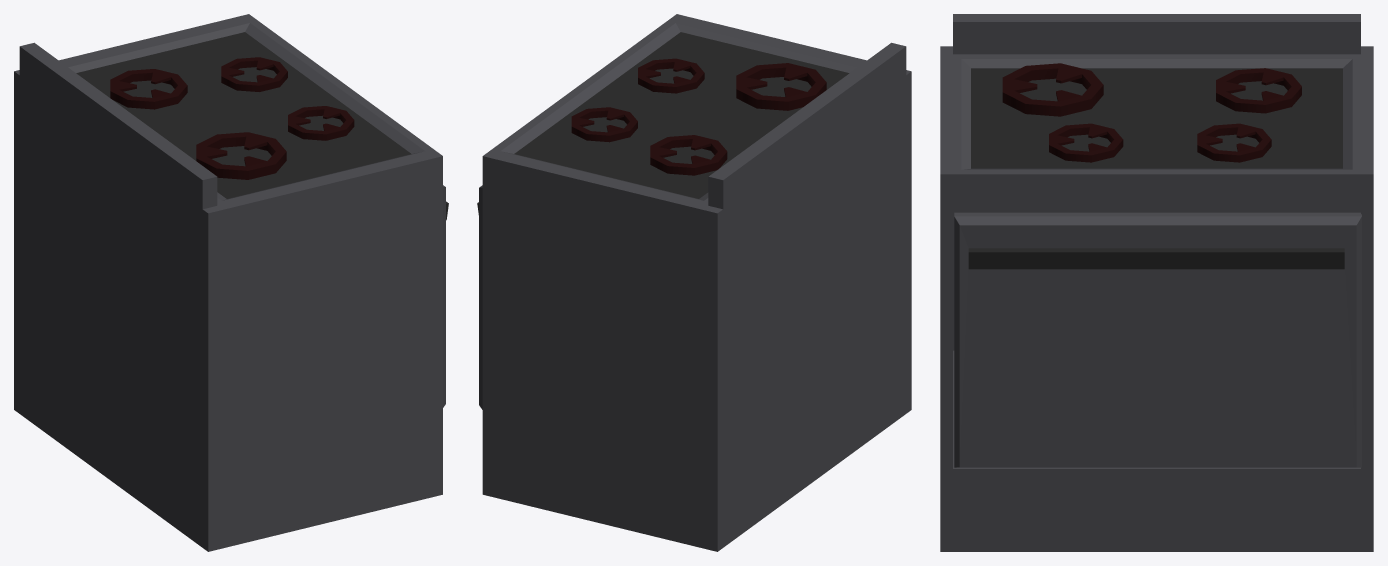
File: Horno.fbx
3 views of the same model, side by side, from view 1: azimuth 30°, elevation 25°; view 2: azimuth 150°, elevation 25°; view 3: azimuth 270°, elevation 25° (orthographic). The views are drawn at different scales.
Parts seen in each view (by area): view 1: Horno, FuegoCocina001, FuegoCocina, FuegoCocina003, FuegoCocina002, PuertaArmario005; view 2: Horno, FuegoCocina001, FuegoCocina, FuegoCocina003, FuegoCocina002, PuertaArmario005; view 3: Horno, PuertaArmario005, FuegoCocina001, FuegoCocina, FuegoCocina003, FuegoCocina002.
Part boxes in pixels (bbox=[...]): Horno: bbox=[14, 14, 442, 551]; FuegoCocina001: bbox=[196, 132, 286, 179]; FuegoCocina: bbox=[110, 69, 187, 109]; FuegoCocina003: bbox=[221, 57, 287, 91]; FuegoCocina002: bbox=[288, 106, 354, 140]; PuertaArmario005: bbox=[443, 185, 448, 407]; Horno: bbox=[482, 14, 911, 551]; FuegoCocina001: bbox=[736, 63, 826, 110]; FuegoCocina: bbox=[650, 135, 727, 175]; FuegoCocina003: bbox=[571, 107, 637, 142]; FuegoCocina002: bbox=[638, 58, 704, 93]; PuertaArmario005: bbox=[477, 185, 482, 409]; Horno: bbox=[940, 14, 1373, 551]; PuertaArmario005: bbox=[954, 212, 1361, 467]; FuegoCocina001: bbox=[1002, 63, 1103, 116]; FuegoCocina: bbox=[1216, 68, 1301, 113]; FuegoCocina003: bbox=[1197, 123, 1271, 162]; FuegoCocina002: bbox=[1049, 123, 1123, 162].
Size of the model in its own units: 0.9487 by 1.32 by 1.26.
